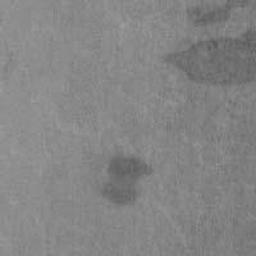Oil spot: (156, 0, 256, 87), (100, 151, 155, 210)
